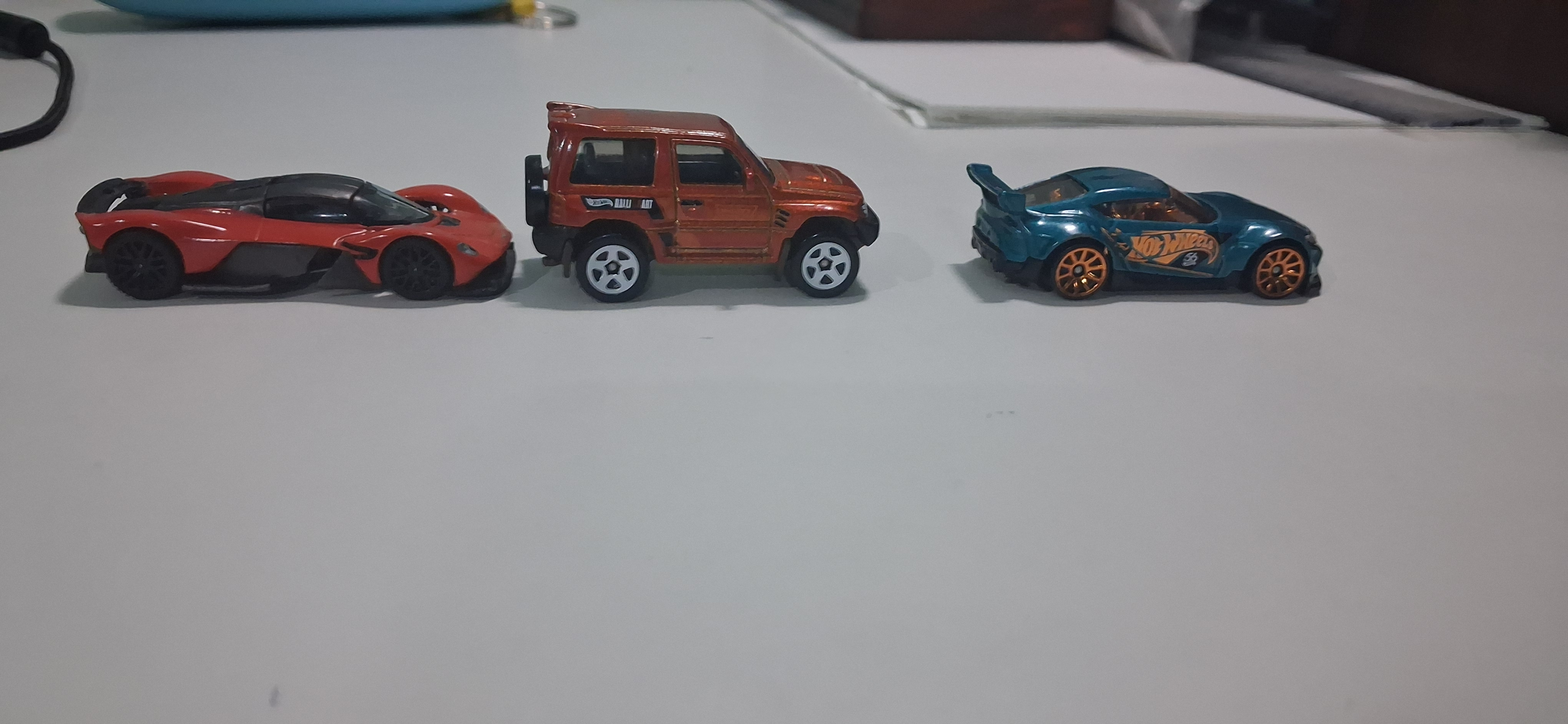Aston_Martin_Valkyrie: (52, 155, 520, 331)
Mitsubishi_Pajero_Evolution: (507, 88, 899, 329)
Toyota_GR_Supra: (947, 140, 1337, 327)
